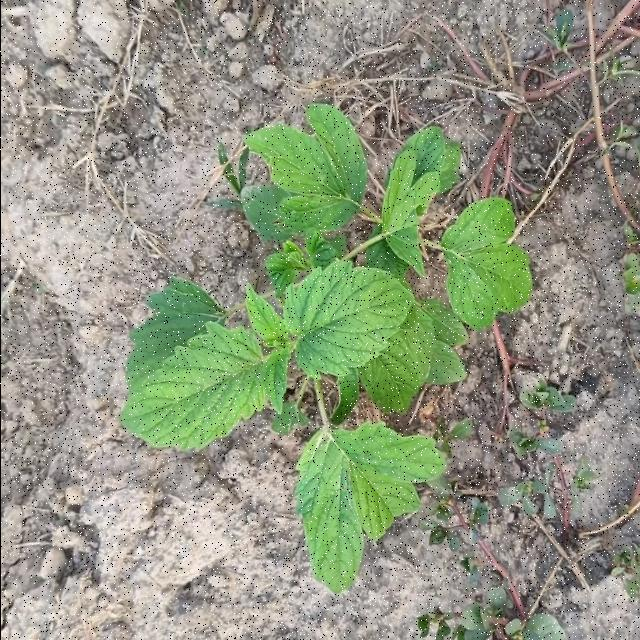plant: (121, 104, 530, 592)
